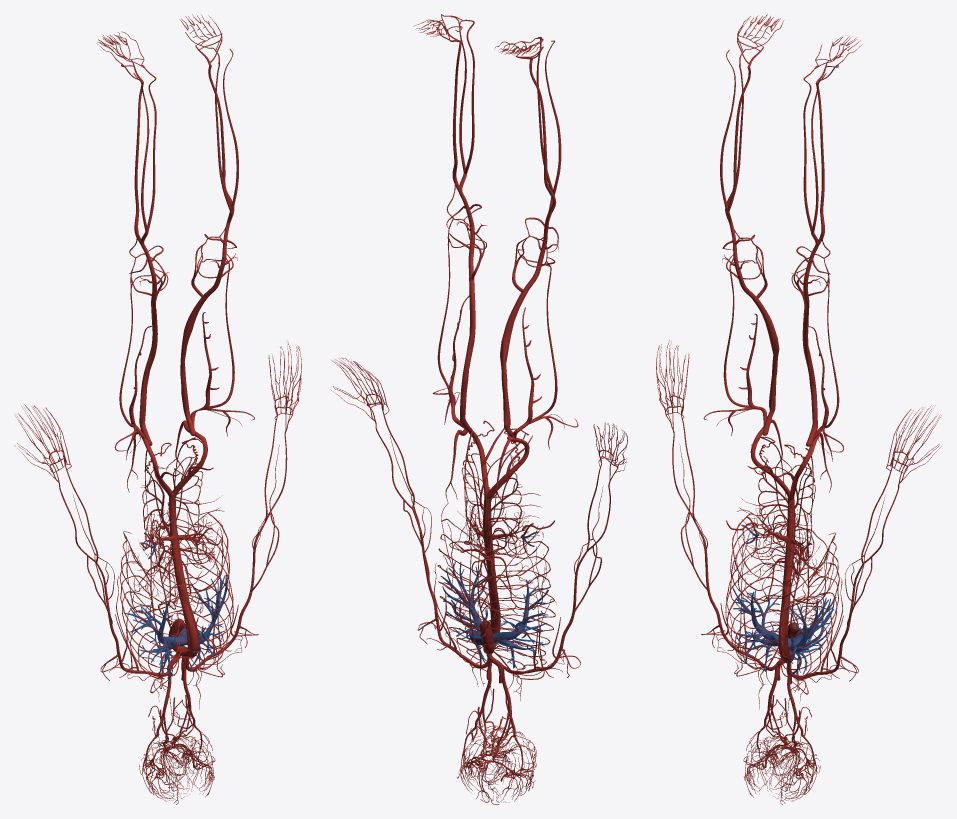
The model's file is arterial.glb.
3 renders of one model, left to right at view 1: azimuth 30°, elevation 25°; view 2: azimuth 150°, elevation 25°; view 3: azimuth 330°, elevation 25°, orthographic. The views are drawn at different scales.
Parts seen in each view (by area): view 1: FJ1961, FJ1975, FJ3427, FJ2074, FJ2143, FJ2130; view 2: FJ1961, FJ2143, FJ2074, FJ1975, FJ3427, FJ2130; view 3: FJ1961, FJ1975, FJ2143, FJ2074, FJ3427, FJ2065.
Boxes of the visible parts, x1,y1,x2,y2 form: FJ1961: (119, 533, 193, 675); FJ1975: (163, 513, 233, 668); FJ3427: (169, 491, 199, 650); FJ2074: (180, 295, 207, 435); FJ2143: (139, 310, 157, 445); FJ2130: (134, 84, 143, 245); FJ1961: (482, 531, 555, 656); FJ2143: (500, 289, 528, 442); FJ2074: (459, 276, 475, 432); FJ1975: (437, 511, 501, 648); FJ3427: (484, 491, 500, 633); FJ2130: (529, 59, 556, 214); FJ1961: (725, 513, 796, 668); FJ1975: (778, 534, 839, 676); FJ2143: (752, 296, 779, 435); FJ2074: (802, 310, 817, 446); FJ3427: (778, 497, 794, 655); FJ2065: (816, 84, 824, 246).
Size of the model in its own units: 649 by 1631 by 211.
